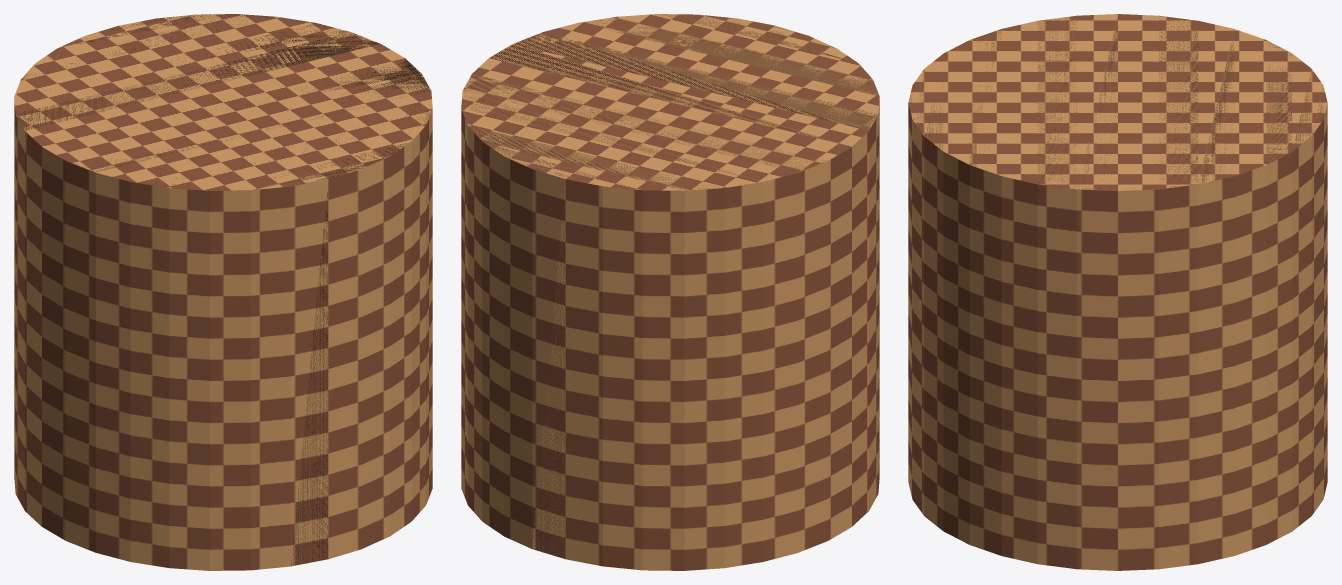
The model's file is tower pplaceholder.glb.
The picture shows the model from 3 angles, left to right: view 1: azimuth 30°, elevation 25°; view 2: azimuth 150°, elevation 25°; view 3: azimuth 270°, elevation 25°; orthographic projection.
Visible parts, largest first — view 1: Cylinder; view 2: Cylinder; view 3: Cylinder.
Boxes of the visible parts, bbox=[...] form: Cylinder: bbox=[14, 14, 432, 570]; Cylinder: bbox=[461, 14, 879, 570]; Cylinder: bbox=[908, 14, 1327, 570].
Bounding box in the file's own units: 2 × 2 × 2.
1 material, 1 textured.
